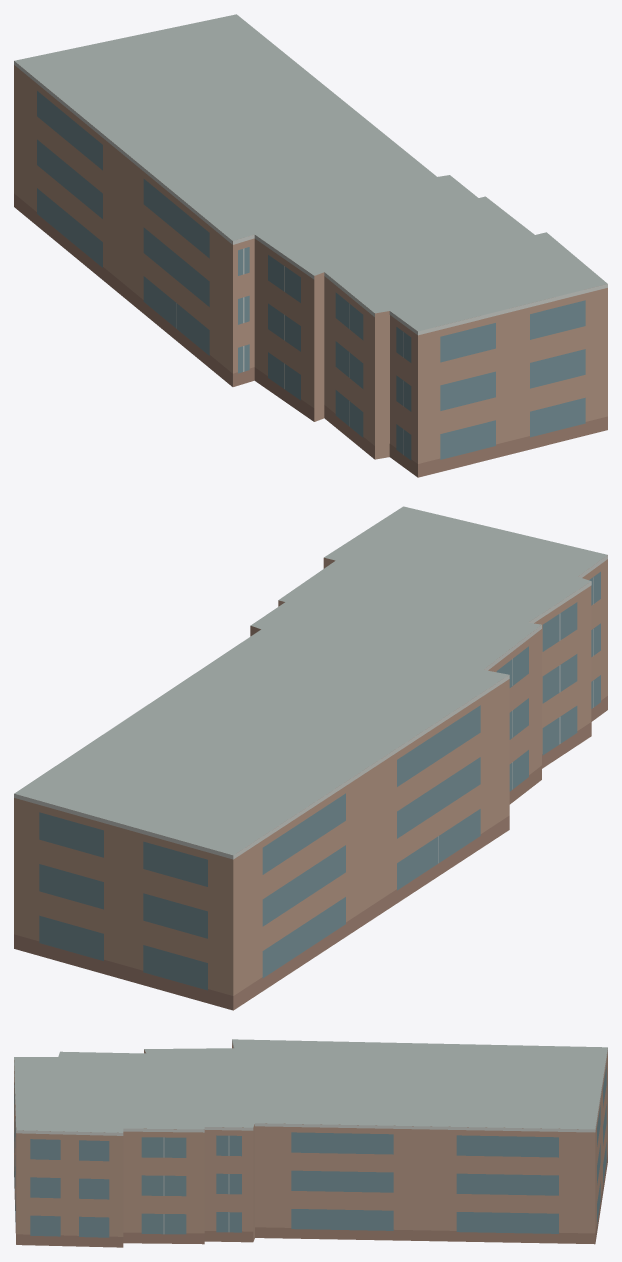
Rendered from survey-upis-32481568.glb.
The picture shows the model from 3 angles, top to bottom: view 1: azimuth 30°, elevation 25°; view 2: azimuth 150°, elevation 25°; view 3: azimuth 270°, elevation 25°; orthographic projection. The views are drawn at different scales.
Visible parts, largest first — view 1: survey-upis-32481568.tmp; view 2: survey-upis-32481568.tmp; view 3: survey-upis-32481568.tmp.
Boxes of the visible parts, x1,y1,x2,y2 form: survey-upis-32481568.tmp: (14,14,607,477); survey-upis-32481568.tmp: (14,506,607,1010); survey-upis-32481568.tmp: (14,1039,607,1247).
Bounding box in the file's own units: 16.02 × 9.15 × 42.95.
